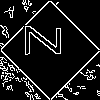Z: (25, 25, 70, 56)
